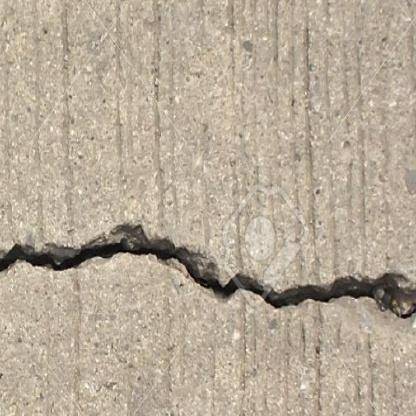Cracks: (0, 235, 416, 324)
